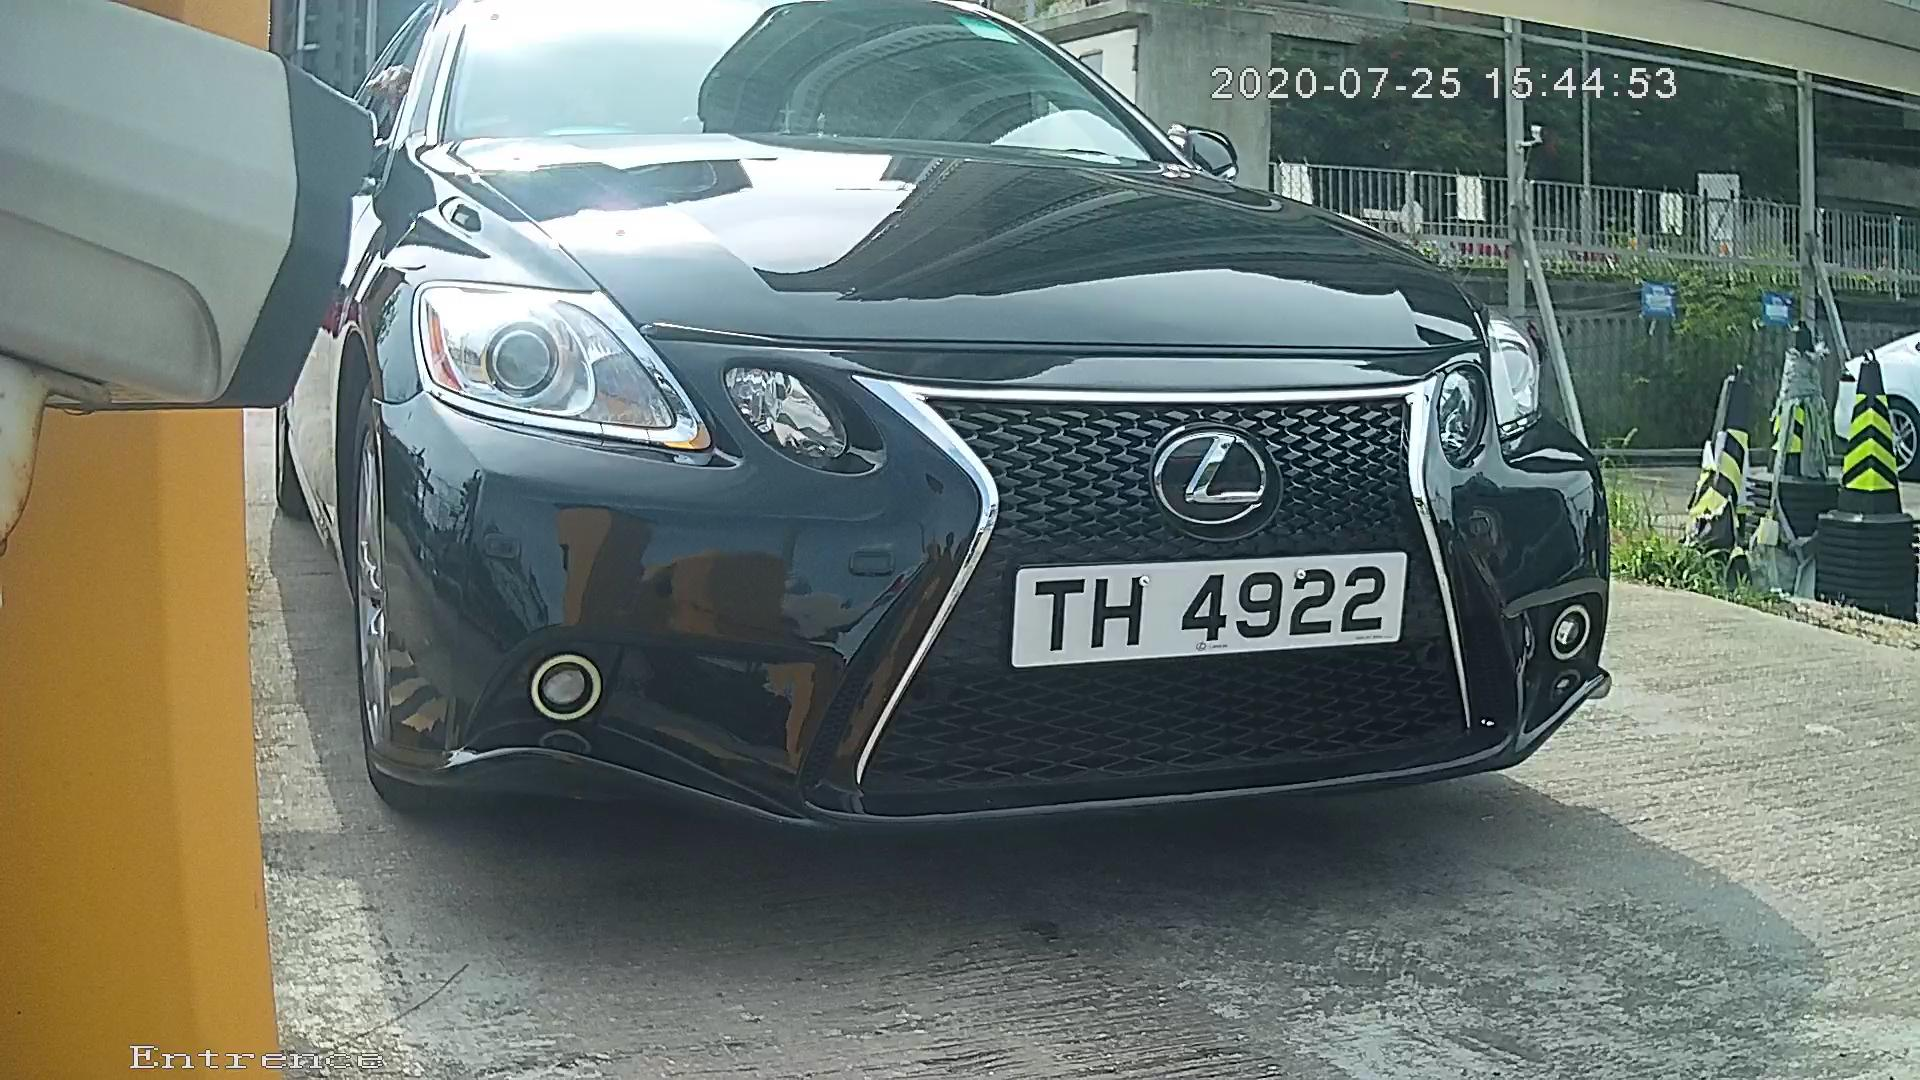Car: (138, 1, 1758, 897)
License Plate: (1012, 526, 1415, 685)
